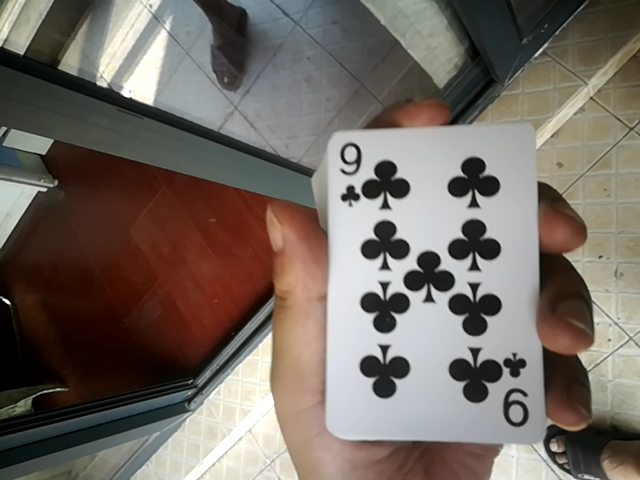mh 9: (319, 115, 530, 455)
